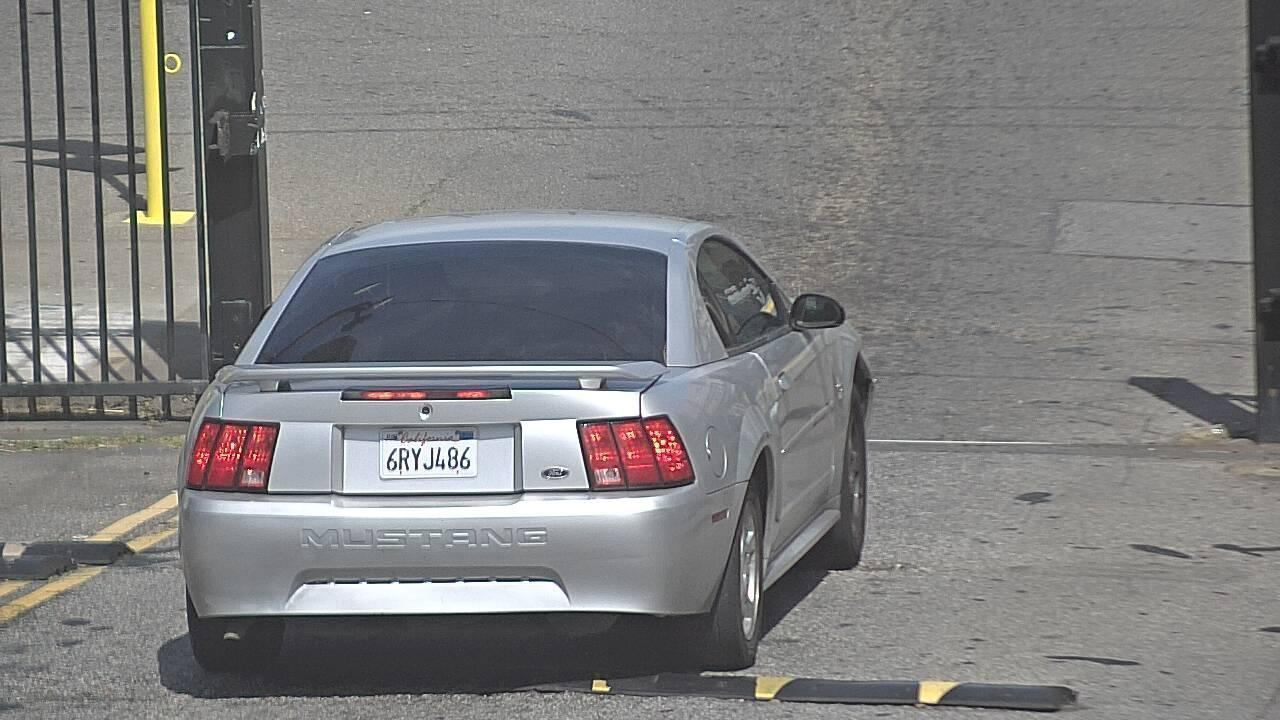placa de veiculo: (358, 423, 506, 497)
